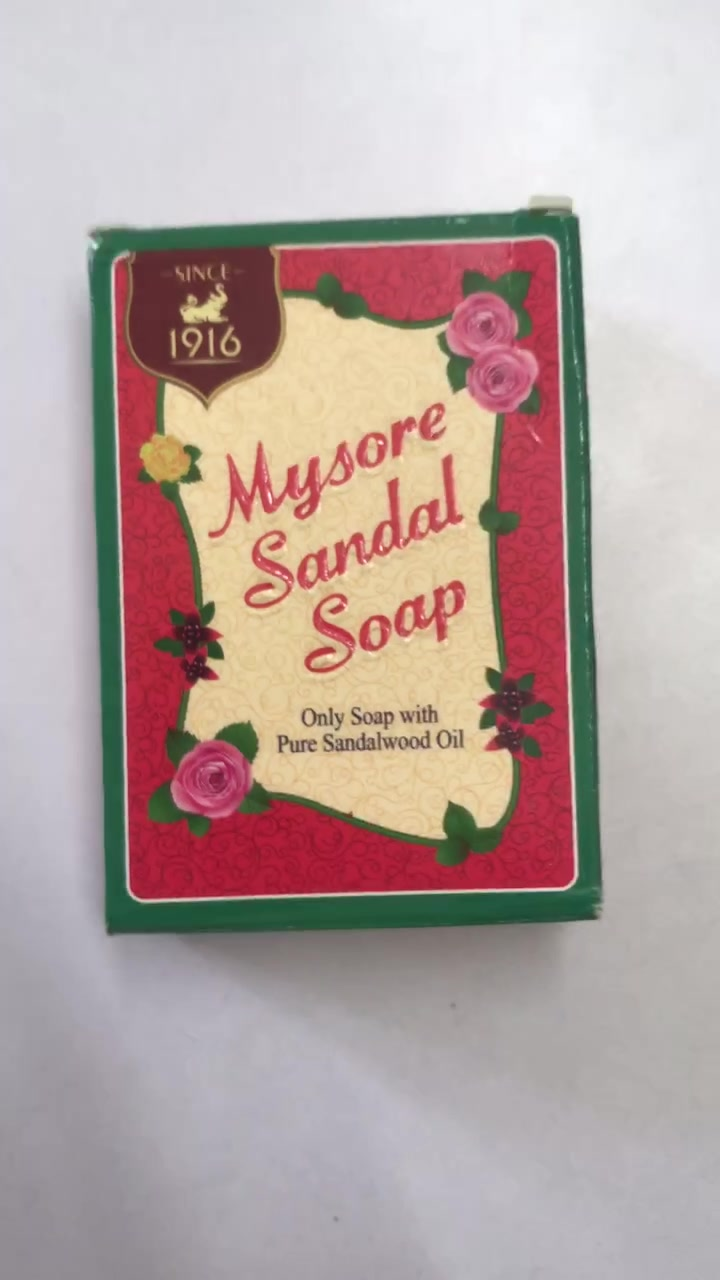mysore sandal soap: (102, 232, 596, 913)
